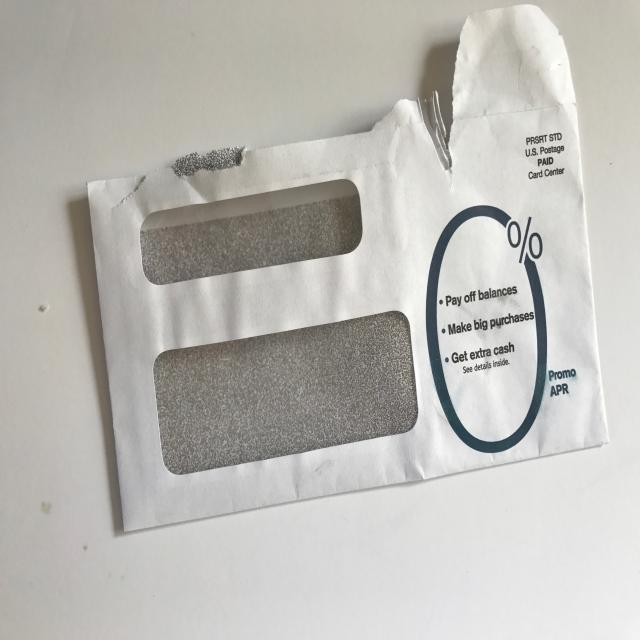paper: (84, 6, 610, 537)
